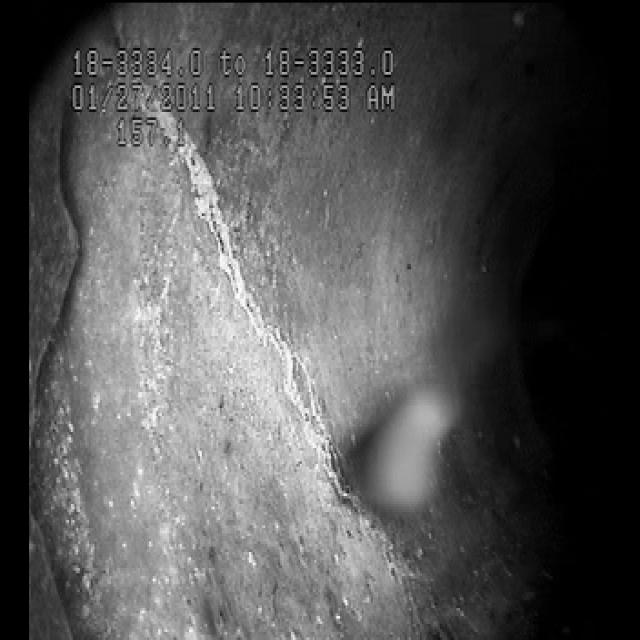Crack: (170, 148, 428, 574)
